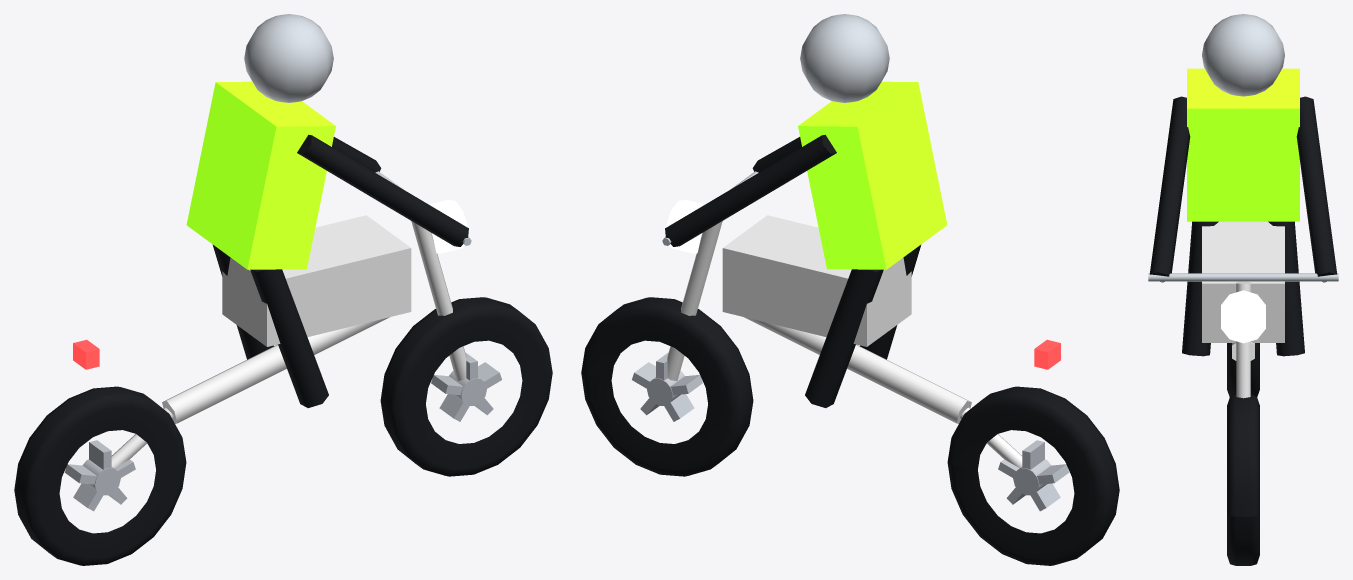
File: carro_moto.glb
3 renders of one model, left to right at view 1: azimuth 30°, elevation 25°; view 2: azimuth 150°, elevation 25°; view 3: azimuth 270°, elevation 25°, orthographic. The views are drawn at different scales.
Bounding box in the file's own units: 1.9 × 1.71 × 0.64.
